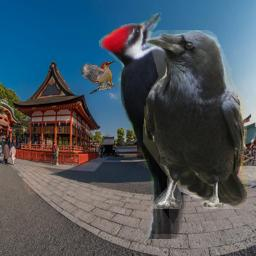Crow: (143, 30, 248, 209)
Woodpecker: (96, 12, 224, 239), (76, 60, 115, 94)
